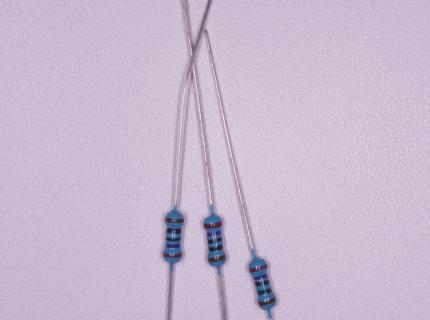Black band: (207, 236, 222, 244), (255, 279, 270, 287), (209, 244, 223, 252), (257, 288, 272, 295), (167, 228, 181, 234), (166, 237, 180, 242)
Brown band: (258, 297, 275, 306), (208, 255, 226, 263), (166, 217, 184, 223)
Red band: (249, 264, 267, 272), (204, 221, 222, 228), (163, 253, 182, 258)
Violet band: (253, 273, 268, 280), (207, 230, 221, 236), (166, 244, 180, 249)
